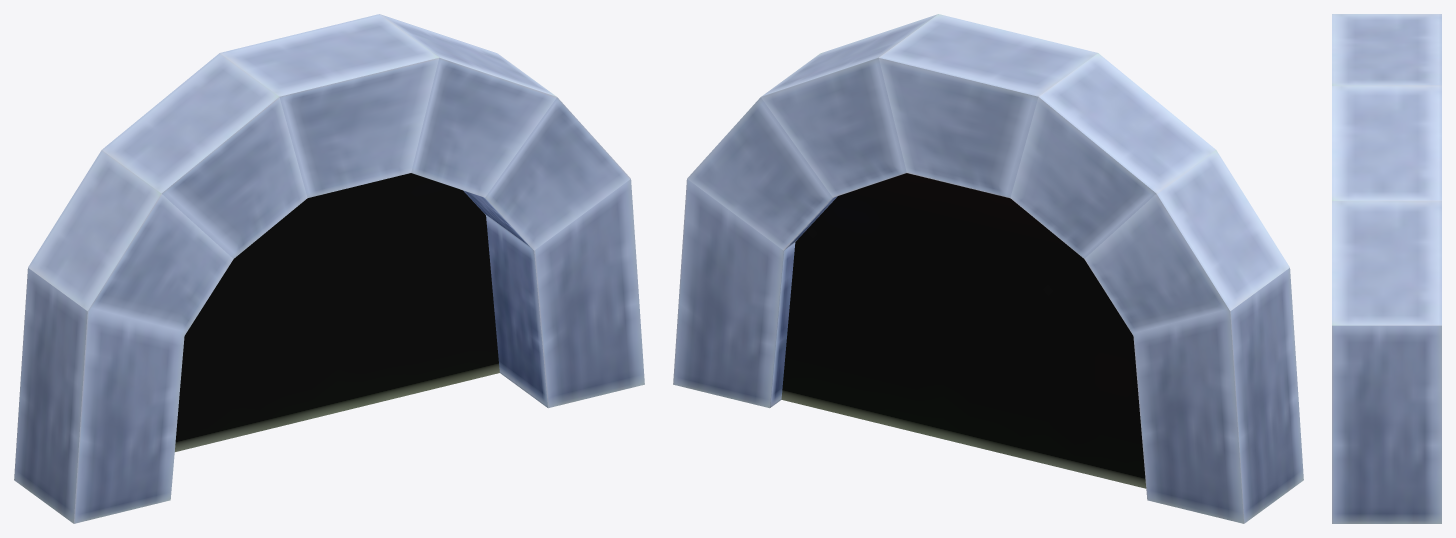
The model's file is gate.glb.
The picture shows the model from 3 angles, left to right: view 1: azimuth 30°, elevation 25°; view 2: azimuth 150°, elevation 25°; view 3: azimuth 270°, elevation 25°; orthographic projection. The views are drawn at different scales.
Parts seen in each view (by area): view 1: gate; view 2: gate; view 3: gate.
Boxes of the visible parts, left/top/right/bottom form: gate: left=14, top=14, right=644, bottom=523; gate: left=673, top=14, right=1303, bottom=523; gate: left=1332, top=14, right=1441, bottom=523.
Bounding box in the file's own units: 2.06 × 1.3 × 0.3743.
Materials: 1 (1 with a texture image).
